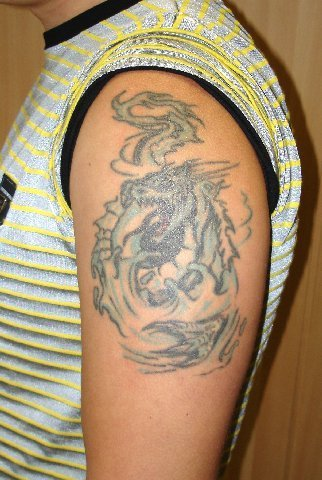tatu6_drakon: (77, 73, 298, 379)
